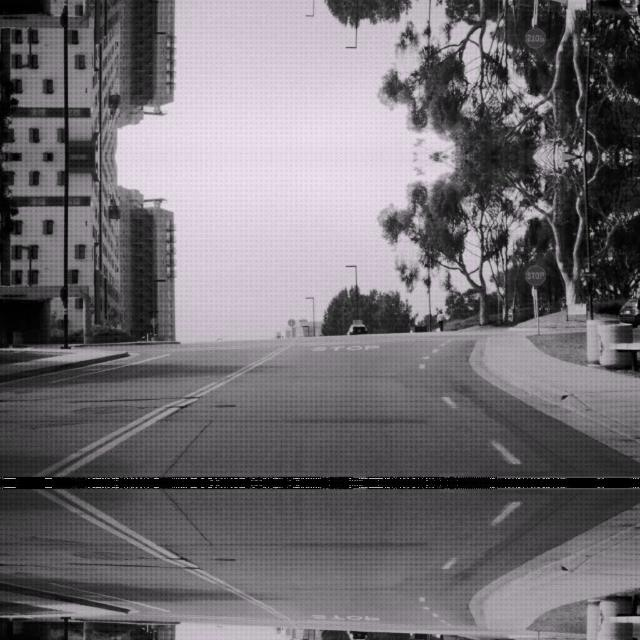stop: (524, 264, 546, 284), (524, 28, 546, 48)
